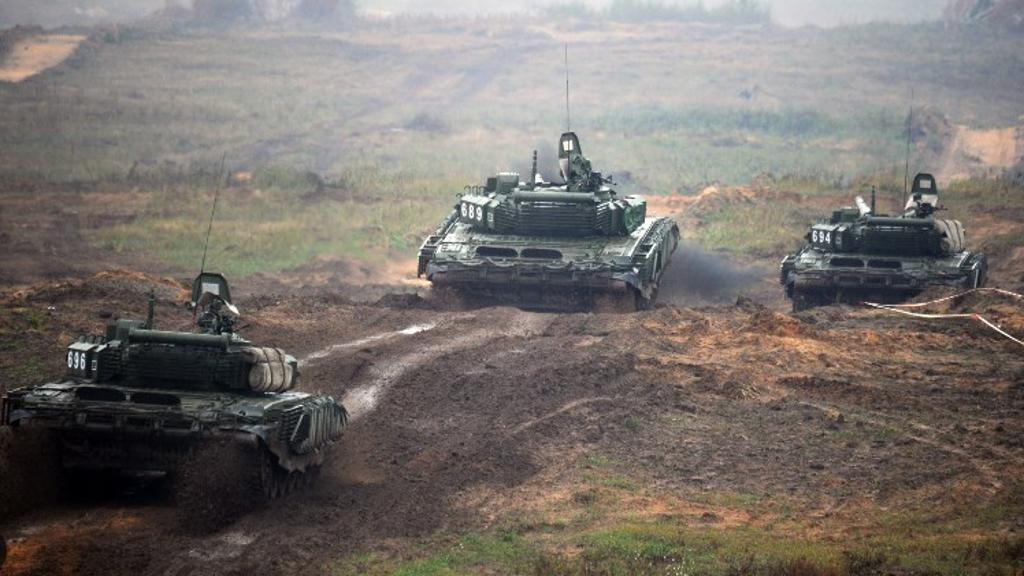TANK: (0, 268, 349, 511), (415, 130, 681, 322), (779, 188, 991, 316)
